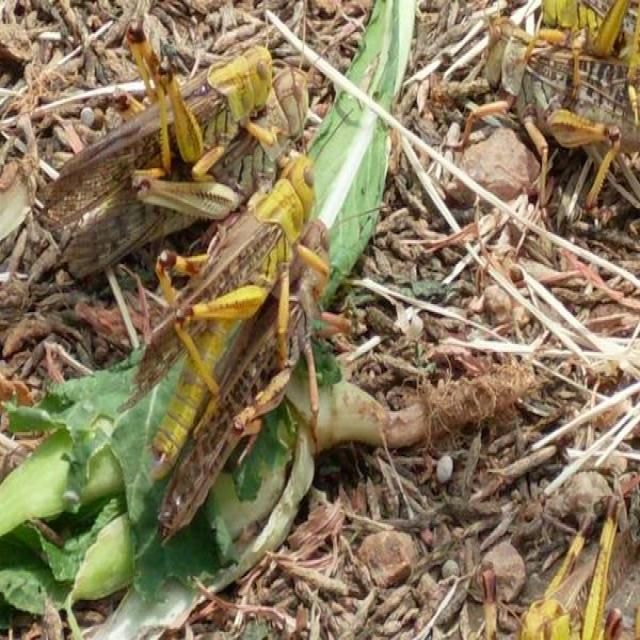ZhaMeng: (137, 142, 316, 501), (44, 39, 290, 256)
